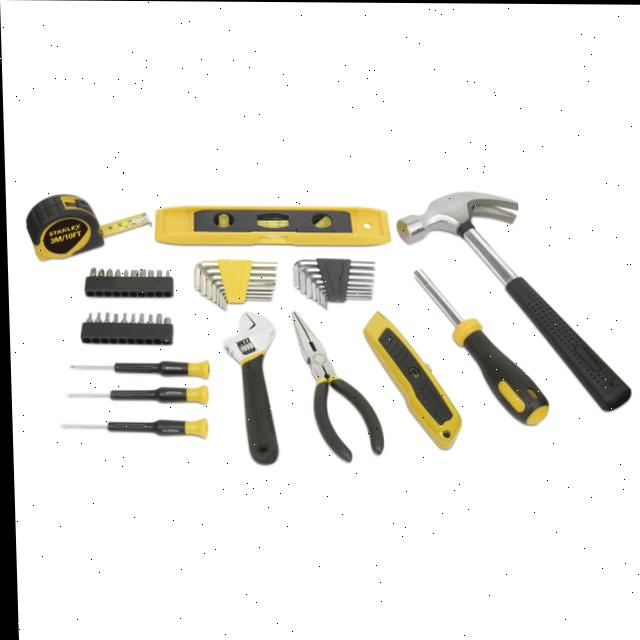Screwdriver: (414, 270, 546, 424), (59, 418, 206, 440), (63, 383, 207, 405), (69, 360, 209, 381)
